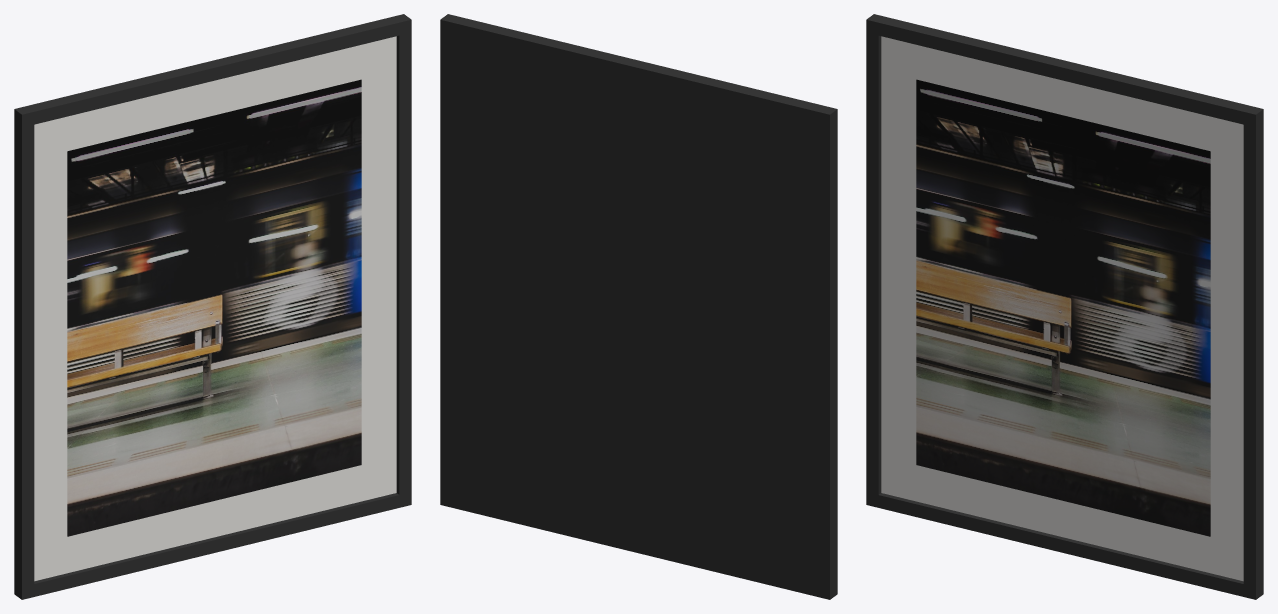
File: perrongen-60.gltf
3 views of the same model, side by side, from view 1: azimuth 30°, elevation 25°; view 2: azimuth 150°, elevation 25°; view 3: azimuth 330°, elevation 25° (orthographic).
Visible parts, largest first — view 1: tavla; view 2: tavla; view 3: tavla.
Boxes of the visible parts, x1=… form: tavla: x1=14, y1=14, x2=411, y2=599; tavla: x1=440, y1=14, x2=837, y2=599; tavla: x1=866, y1=14, x2=1263, y2=599.
Size of the model in its own units: 0.6347 by 0.7551 by 0.022.
Materials: 3 (1 with a texture image).
